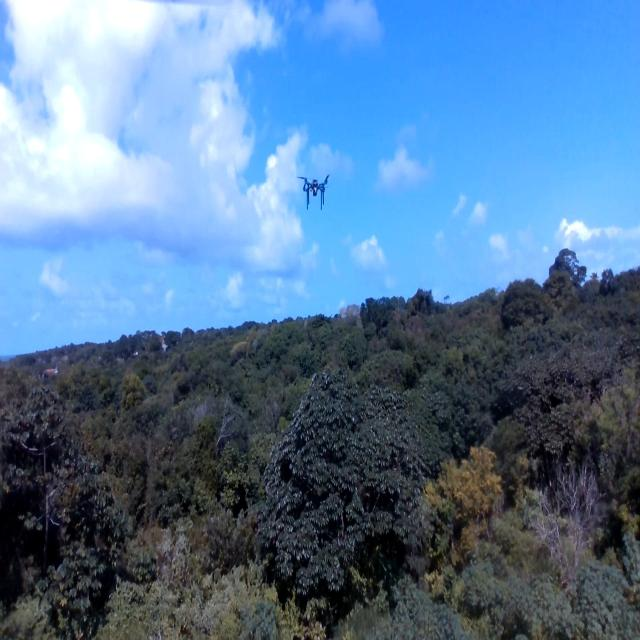-uav-: (288, 159, 342, 225)
